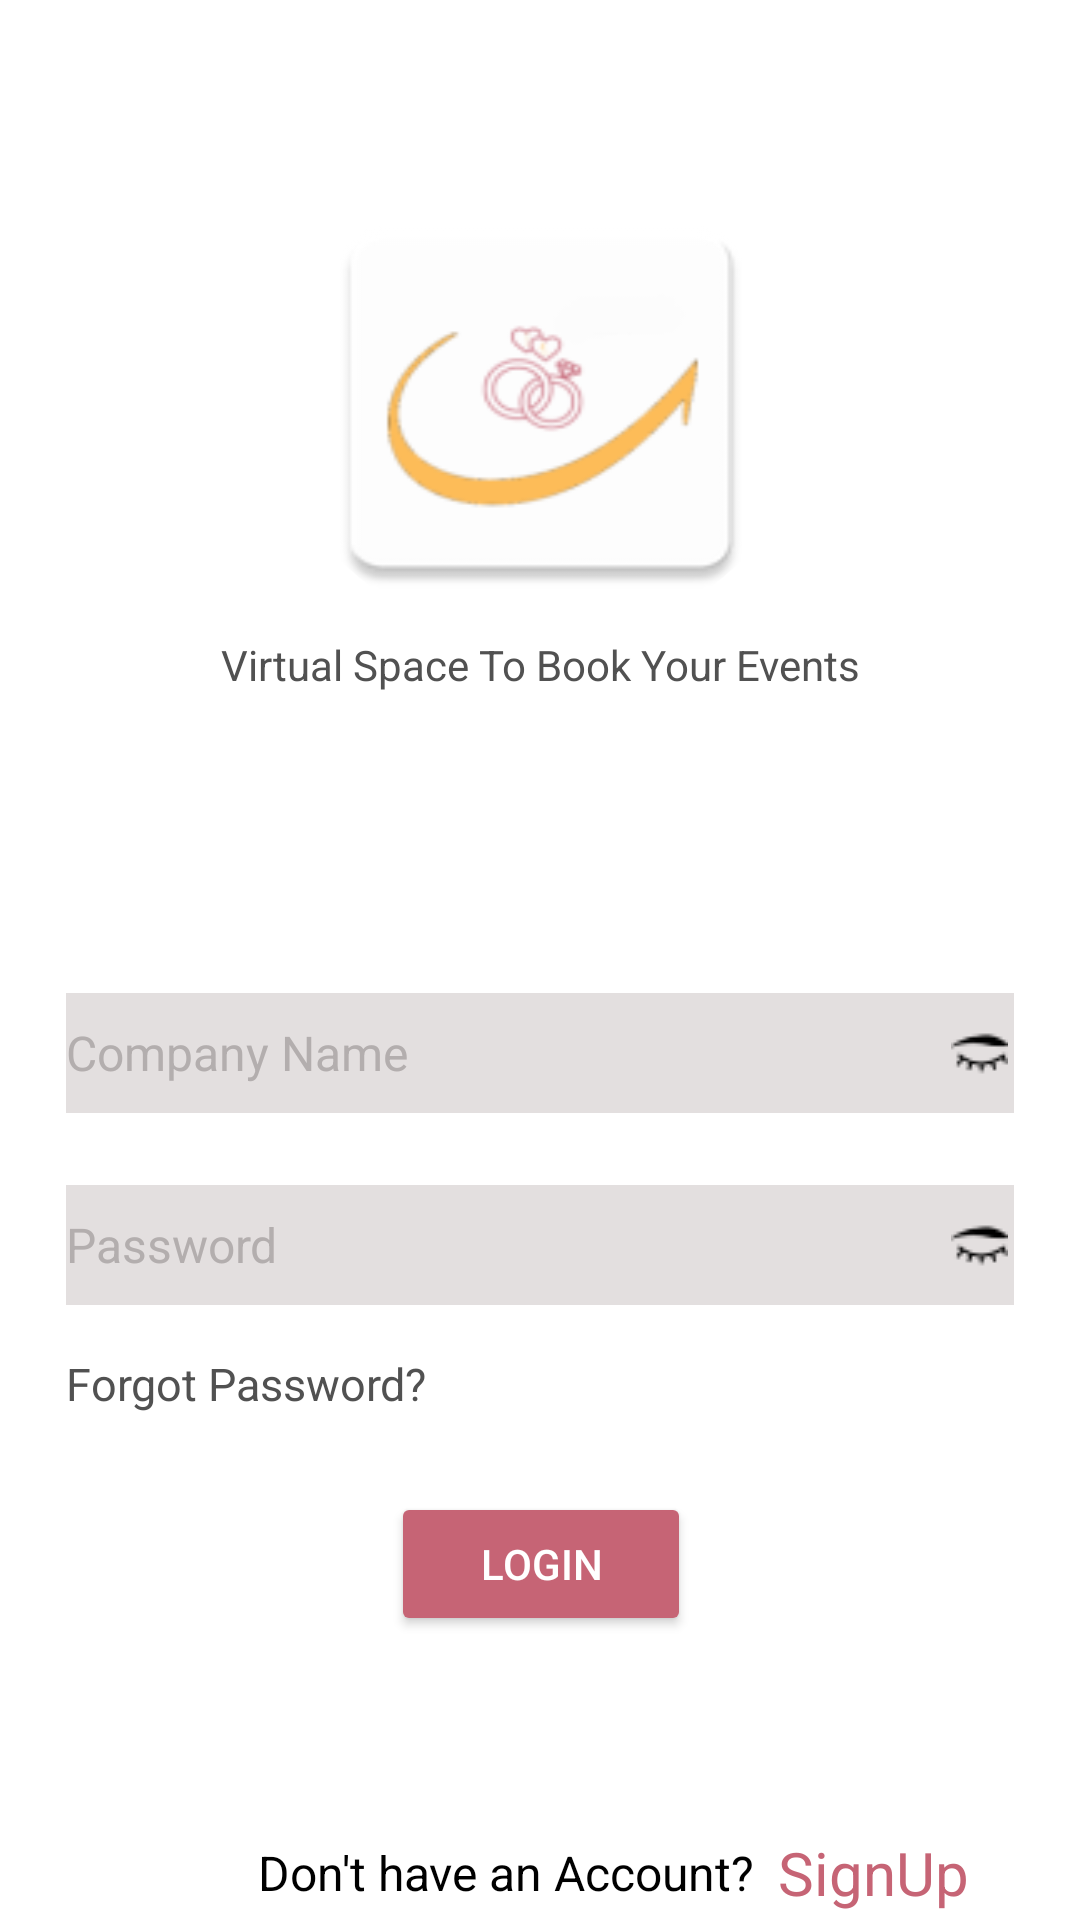

Point at icon controls on the screen. Image size 1080x1920, points as (x,y).
eye: (979,1053), (979,1245)
